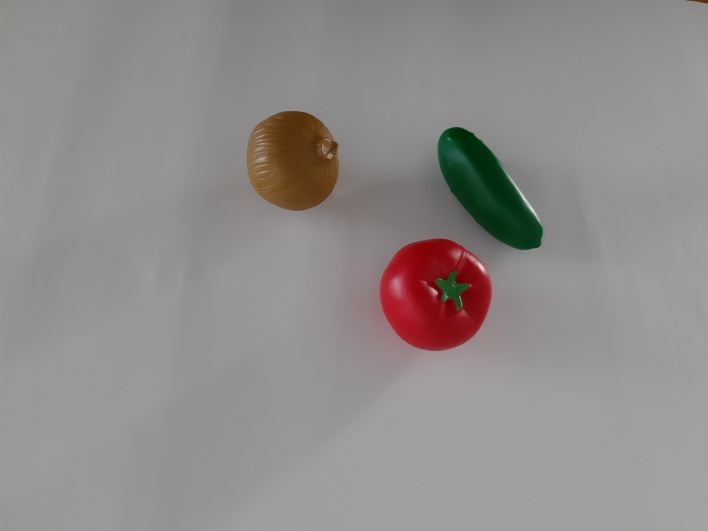cucumber: (429, 118, 576, 258)
onion: (237, 100, 349, 233)
tomato: (372, 236, 503, 360)
